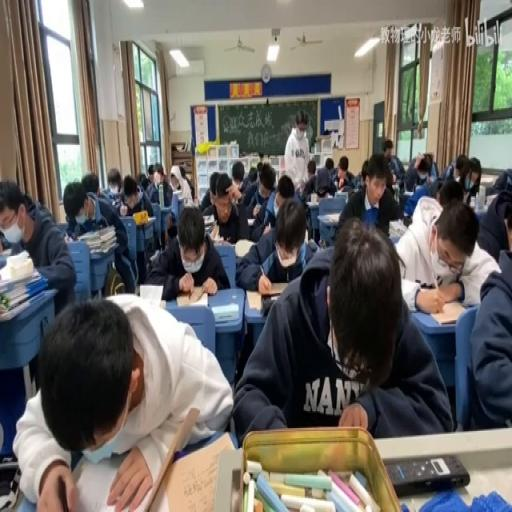calculator: (245, 283, 288, 311), (0, 264, 39, 292), (426, 299, 468, 324), (176, 287, 208, 306), (210, 302, 238, 322), (138, 282, 163, 302), (89, 244, 117, 258), (234, 238, 254, 256), (208, 223, 226, 242), (76, 226, 102, 239), (134, 213, 157, 226), (388, 218, 406, 234), (96, 225, 115, 239), (182, 196, 196, 208), (325, 212, 341, 222), (172, 188, 185, 200), (202, 213, 214, 225), (149, 248, 158, 263), (0, 246, 12, 257), (306, 198, 320, 206), (62, 233, 73, 243), (334, 189, 346, 198), (402, 189, 414, 196), (246, 216, 254, 225)
paper: (232, 218, 446, 440), (17, 289, 231, 509), (392, 194, 498, 312), (0, 181, 77, 324), (146, 203, 226, 299), (68, 175, 134, 291), (336, 151, 400, 239), (300, 163, 341, 239), (242, 164, 276, 236), (283, 110, 310, 194), (400, 154, 437, 214), (198, 163, 236, 212), (146, 164, 174, 206), (484, 167, 511, 199), (436, 178, 463, 206), (332, 156, 351, 192), (438, 155, 458, 182), (178, 165, 194, 198), (80, 170, 100, 196), (275, 175, 294, 199), (106, 168, 122, 196), (501, 206, 511, 249), (230, 160, 244, 190), (454, 156, 468, 180), (467, 156, 480, 180), (422, 152, 433, 174), (360, 158, 369, 183), (247, 166, 258, 185), (137, 172, 148, 191), (306, 158, 315, 179), (382, 141, 392, 156), (324, 156, 334, 170), (386, 171, 394, 186), (317, 188, 329, 196), (256, 160, 262, 174), (258, 150, 264, 160)
person: (386, 454, 470, 496), (0, 457, 21, 509), (402, 215, 411, 226)
